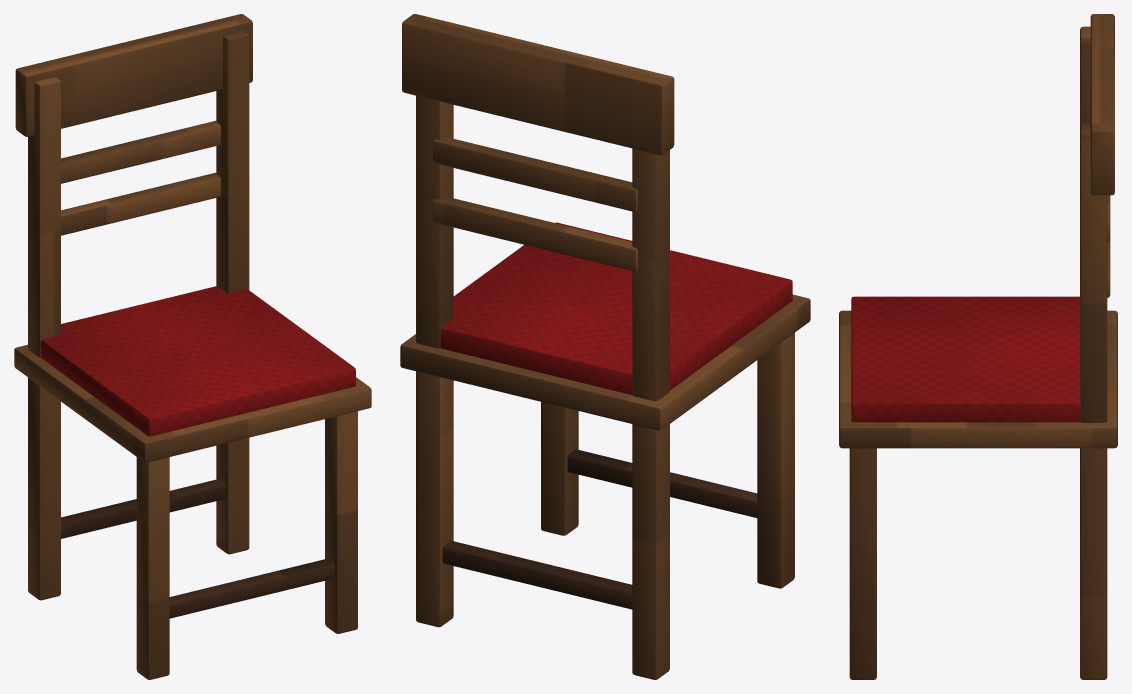
The model's file is prop_chair.glb.
The picture shows the model from 3 angles, left to right: view 1: azimuth 30°, elevation 25°; view 2: azimuth 150°, elevation 25°; view 3: azimuth 270°, elevation 25°; orthographic projection. The views are drawn at different scales.
Visible parts, largest first — view 1: prop_chair; view 2: prop_chair; view 3: prop_chair.
Boxes of the visible parts, x1,y1,x2,y2 form: prop_chair: (14, 14, 371, 679); prop_chair: (400, 14, 810, 679); prop_chair: (839, 14, 1117, 679).
Size of the model in its own units: 0.46 by 1.01 by 0.46.
Materials: 3 (3 with a texture image).
